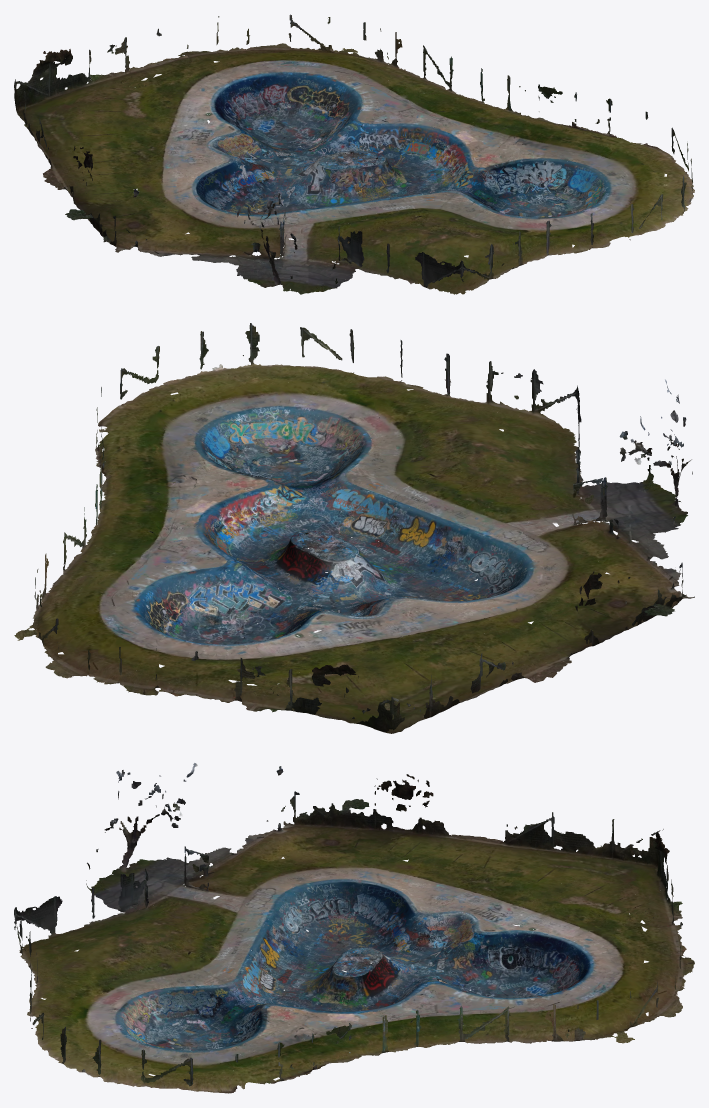
File: greer-skatepark.obj
3 renders of one model, top to bottom at view 1: azimuth 30°, elevation 25°; view 2: azimuth 150°, elevation 25°; view 3: azimuth 270°, elevation 25°, orthographic. The views are drawn at different scales.
Visible parts, largest first — view 1: greer-skatepark; view 2: greer-skatepark; view 3: greer-skatepark.
Boxes of the visible parts, x1,y1,x2,y2 form: greer-skatepark: (14,14,694,294); greer-skatepark: (14,323,694,733); greer-skatepark: (14,763,694,1093).
Bounding box in the file's own units: 39.33 × 8.94 × 40.8.
Materials: 7 (7 with a texture image).
